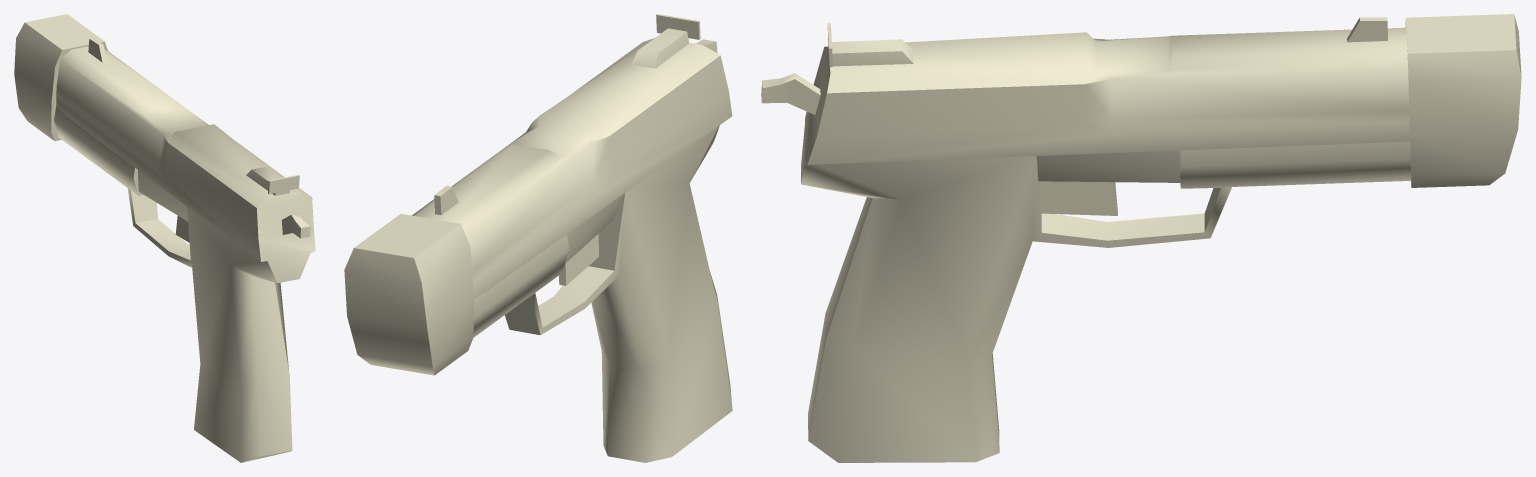
The model's file is pistol.fbx.
3 views of the same model, side by side, from view 1: azimuth 30°, elevation 25°; view 2: azimuth 150°, elevation 25°; view 3: azimuth 270°, elevation 25° (orthographic). The views are drawn at different scales.
Parts seen in each view (by area): view 1: Pistol_reference; view 2: Pistol_reference; view 3: Pistol_reference.
Part boxes in pixels (x1,y1,x2,y2): Pistol_reference: [14, 14, 315, 462]; Pistol_reference: [344, 14, 732, 462]; Pistol_reference: [761, 14, 1521, 462].
Bounding box in the file's own units: 171 × 665 × 1058.
